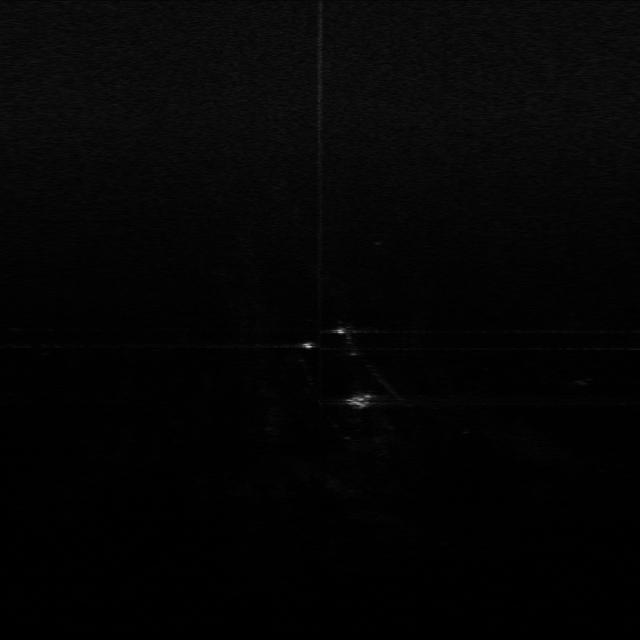rov: (339, 388, 378, 414)
